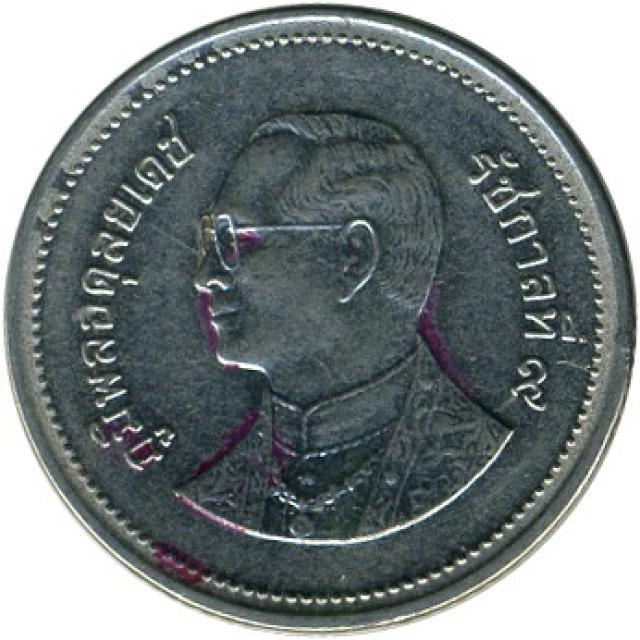2 Bath: (1, 2, 640, 640)
